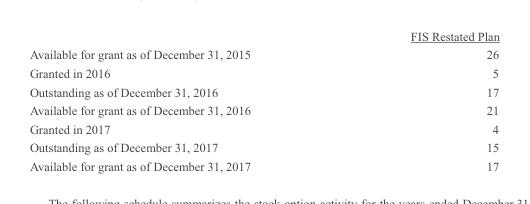table: (28, 28, 498, 172)
table column: (28, 28, 329, 172), (329, 28, 498, 172)
table column header: (28, 28, 498, 44)
table row: (28, 44, 498, 63), (28, 63, 498, 82), (28, 100, 498, 119), (28, 137, 498, 156), (28, 82, 498, 100), (28, 119, 498, 137), (28, 28, 498, 44), (28, 156, 498, 172)
